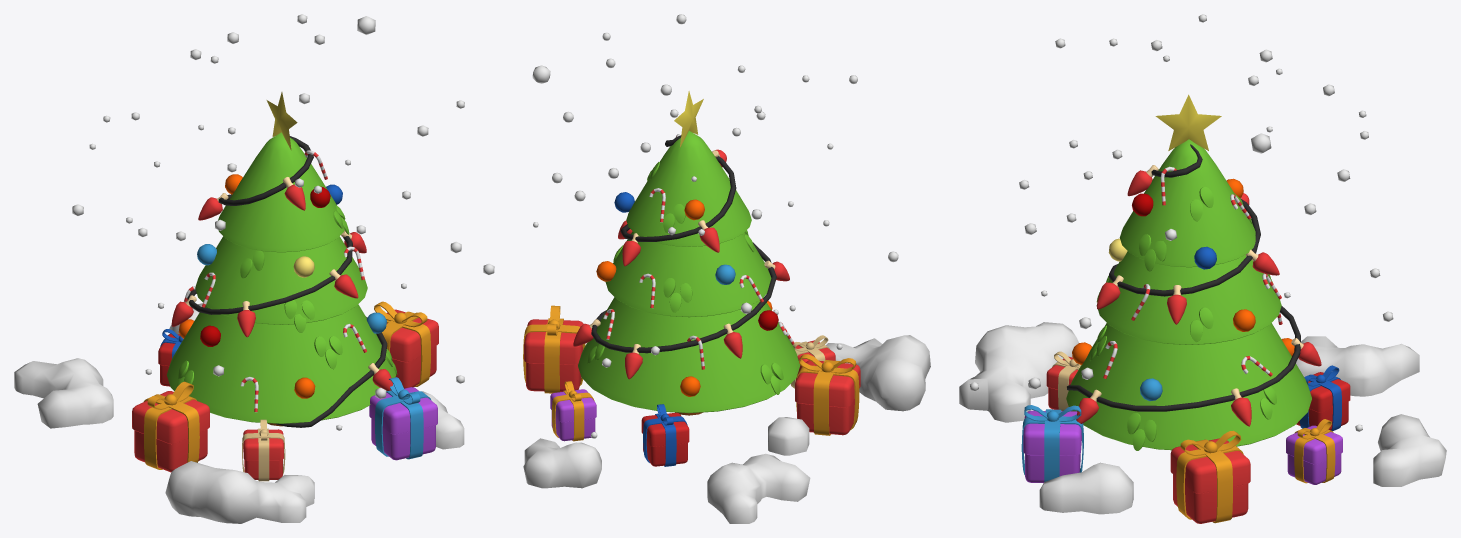
Rendered from ChristmasTree_Scene1.fbx.
3 views of the same model, side by side, from view 1: azimuth 30°, elevation 25°; view 2: azimuth 150°, elevation 25°; view 3: azimuth 270°, elevation 25° (orthographic). The views are drawn at different scales.
Parts seen in each view (by area): view 1: ChristmasTree_Scene1; view 2: ChristmasTree_Scene1; view 3: ChristmasTree_Scene1.
Boxes of the visible parts, left/top/right/bottom form: ChristmasTree_Scene1: left=14, top=14, right=494, bottom=523; ChristmasTree_Scene1: left=523, top=14, right=930, bottom=523; ChristmasTree_Scene1: left=959, top=14, right=1446, bottom=523.
Size of the model in its own units: 9.08 by 10.37 by 9.99.
